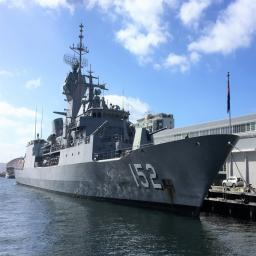Fragata: (15, 21, 245, 223)
